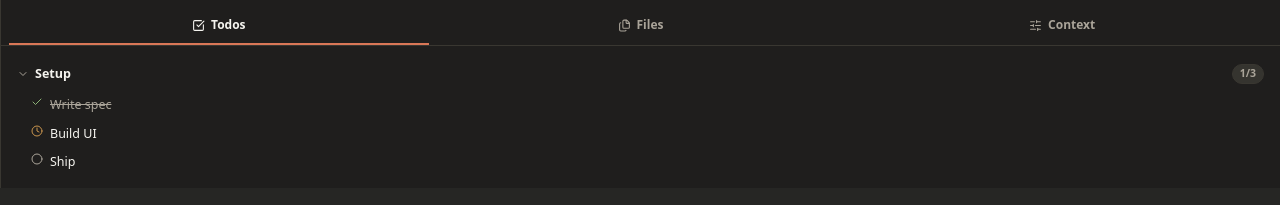
Test case: RightPanel › renders session files with a modified badge in the Files tab
Click the tab "Files": (641, 26) left=431, top=8, right=850, bottom=45
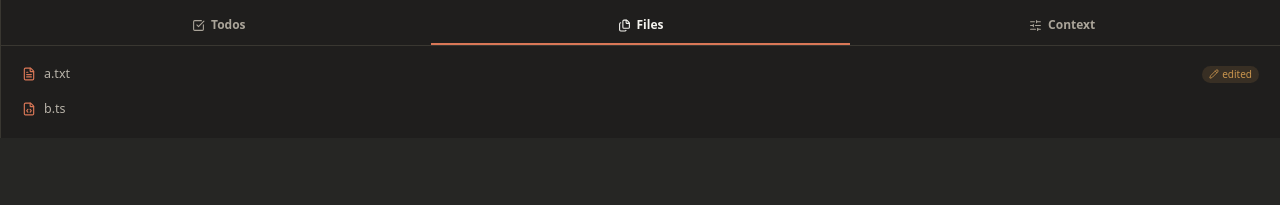
Expected: the text "a.txt" is shown, left=44, top=65, right=70, bottom=82
Expected: the text "edited" is shown, left=1202, top=66, right=1259, bottom=83
Expected: the text "b.ts" is shown, left=44, top=100, right=66, bottom=117
